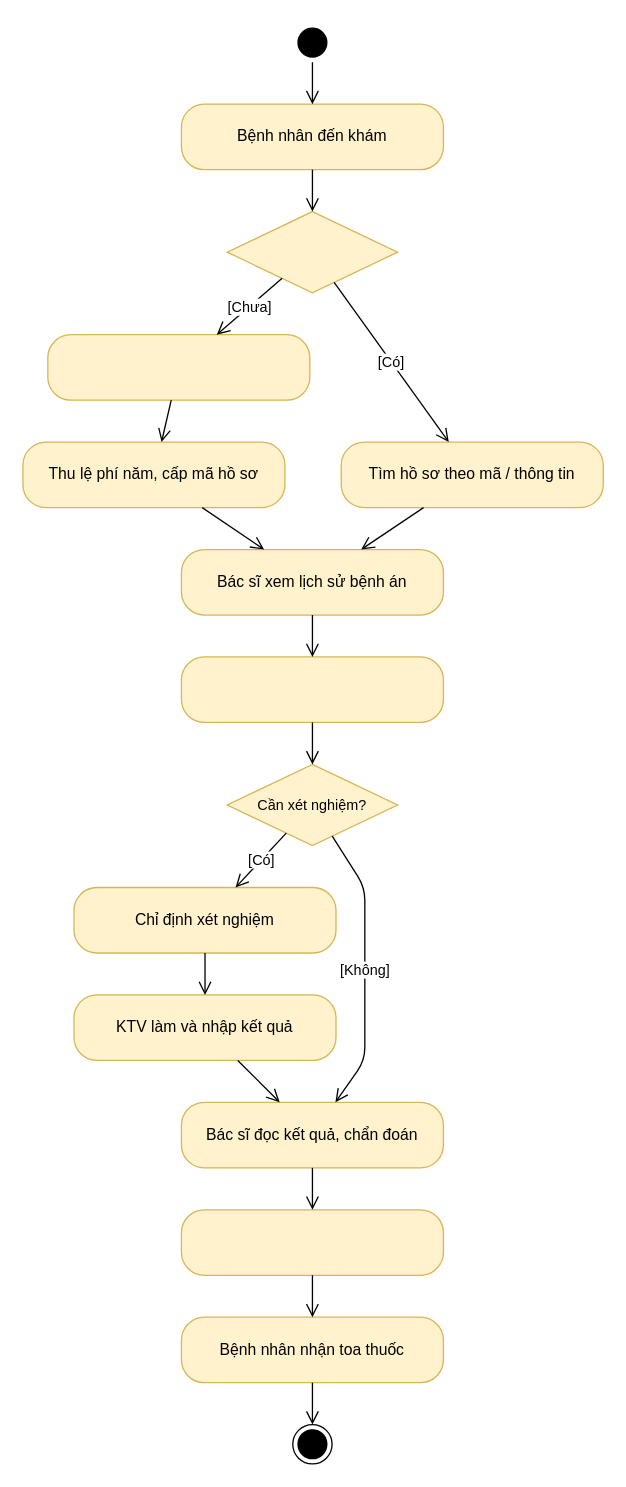
The diagram is 626 pixels wide and 1487 high, and some of its shapes have lost their labels. The centre of each missing label's shape, as x and y in pixels:
Khám, ghi triệu chứng: pixel 311 689
Lập phiếu đăng ký: pixel 178 366
Lập toa thuốc: pixel 311 1241
Đã có hồ sơ?: pixel 312 251
